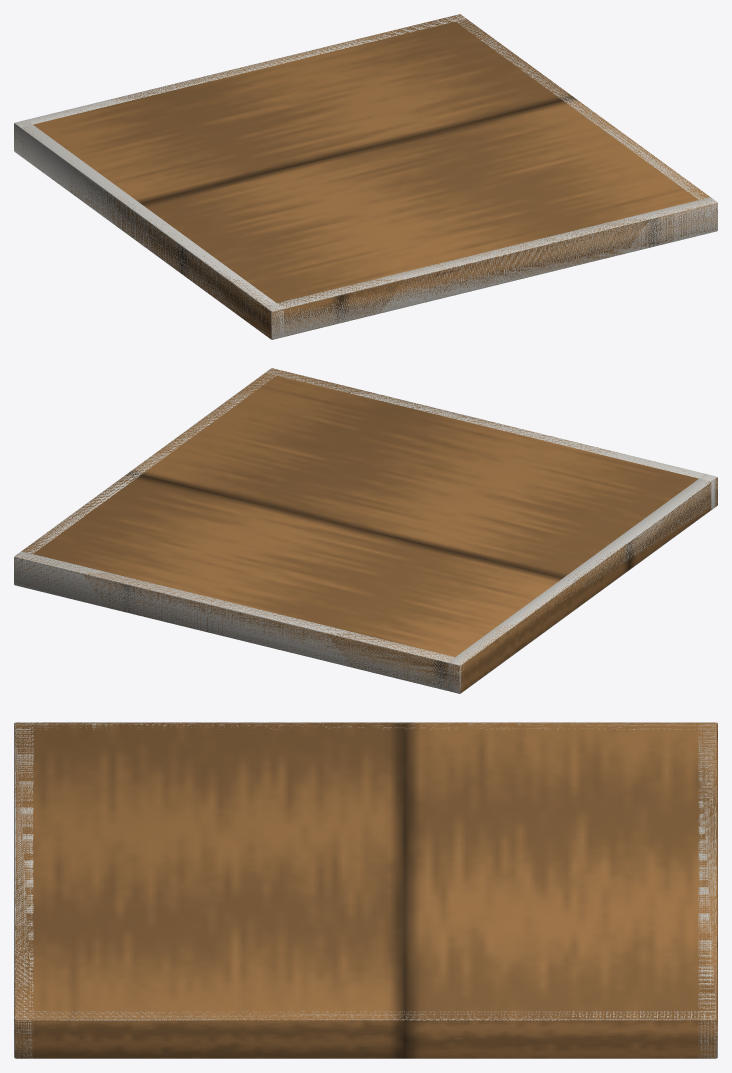
Rendered from th34_decke.glb.
3 views of the same model, one above another, from view 1: azimuth 30°, elevation 25°; view 2: azimuth 150°, elevation 25°; view 3: azimuth 270°, elevation 25° (orthographic). The views are drawn at different scales.
Parts seen in each view (by area): view 1: Cube, Cube.001, Cube.002, Cube.003, Cube.004; view 2: Cube, Cube.003, Cube.002, Cube.001, Cube.004; view 3: Cube, Cube.001, Cube.003, Cube.004, Cube.002.
Boxes of the visible parts, x1,y1,x2,y2 form: Cube: (14, 14, 717, 339); Cube.001: (265, 197, 717, 339); Cube.002: (14, 120, 283, 339); Cube.003: (15, 14, 465, 127); Cube.004: (451, 15, 710, 217); Cube: (14, 368, 717, 693); Cube.003: (14, 551, 464, 693); Cube.002: (448, 474, 717, 693); Cube.001: (266, 368, 717, 509); Cube.004: (21, 368, 280, 574); Cube: (14, 722, 717, 1058); Cube.001: (14, 722, 33, 1058); Cube.003: (698, 724, 716, 1058); Cube.004: (14, 1011, 717, 1057); Cube.002: (16, 722, 717, 729).
Bounding box in the file's own units: 4 × 0.25 × 4.
2 materials, 1 textured.
